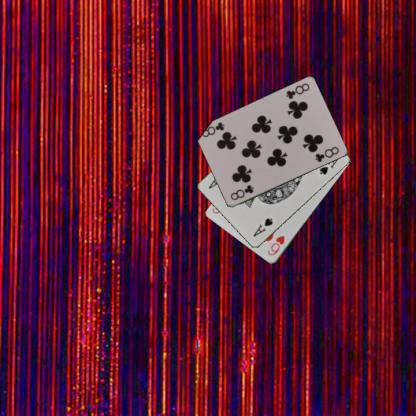6h: (265, 234, 286, 257)
8c: (228, 182, 255, 202), (283, 81, 311, 100)
As: (251, 216, 274, 238)
